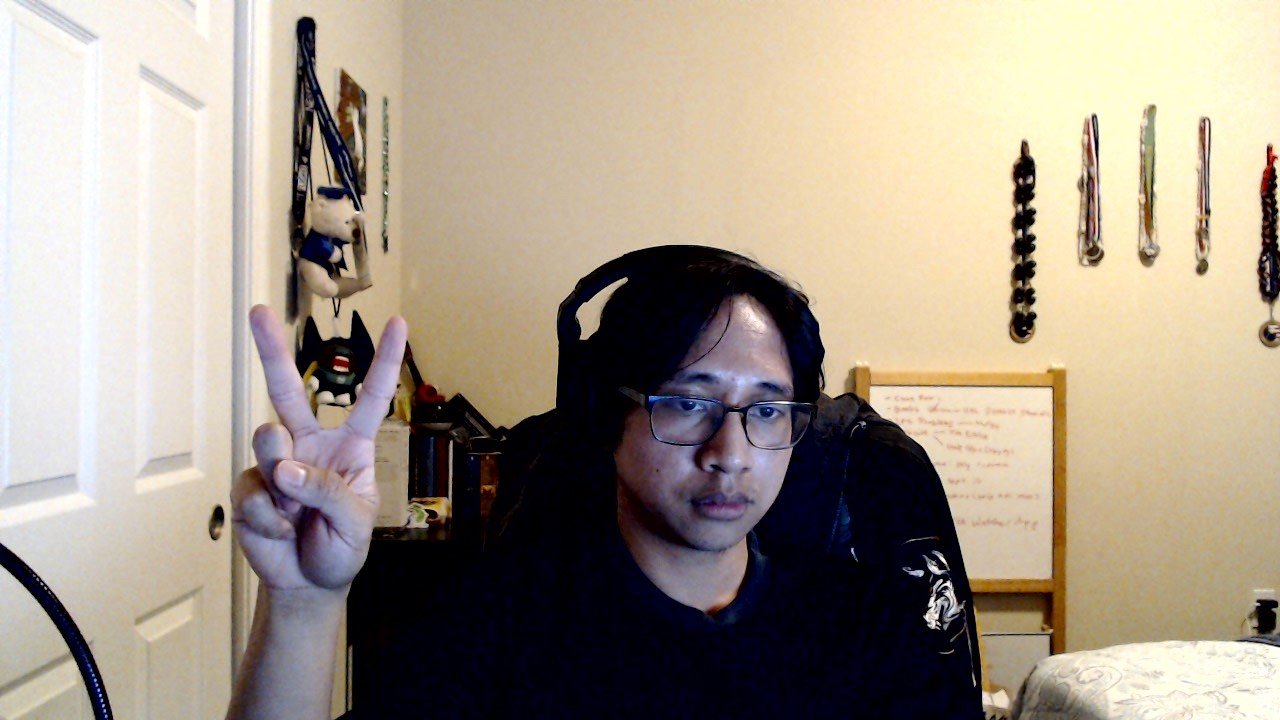v: (229, 302, 408, 592)
